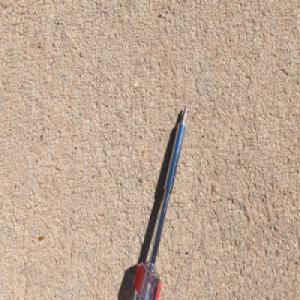Screwdriver: (127, 103, 188, 300)
